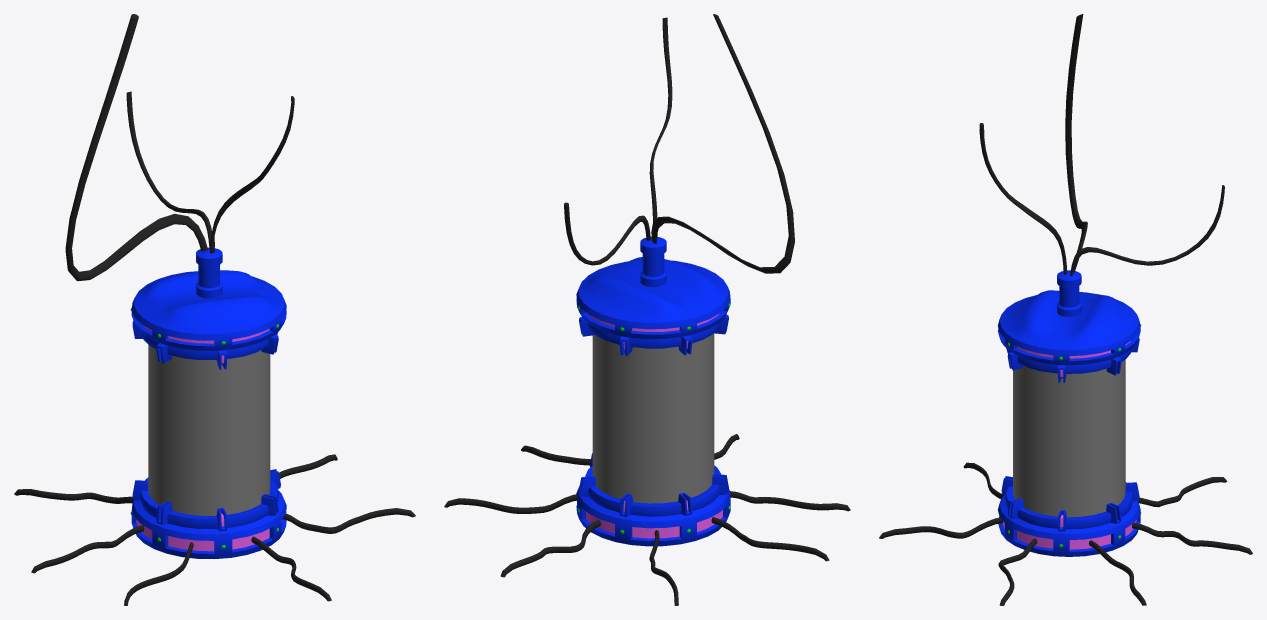
The model's file is Incubadora_PI.fbx.
3 views of the same model, side by side, from view 1: azimuth 30°, elevation 25°; view 2: azimuth 150°, elevation 25°; view 3: azimuth 270°, elevation 25° (orthographic). The views are drawn at different scales.
Visible parts, largest first — view 1: Incubadora; view 2: Incubadora; view 3: Incubadora.
Boxes of the visible parts, <box> form: Incubadora: <box>14,14,415,605</box>; Incubadora: <box>444,14,850,605</box>; Incubadora: <box>879,14,1252,605</box>.
Bounding box in the file's own units: 96.61 × 140 × 98.05.
